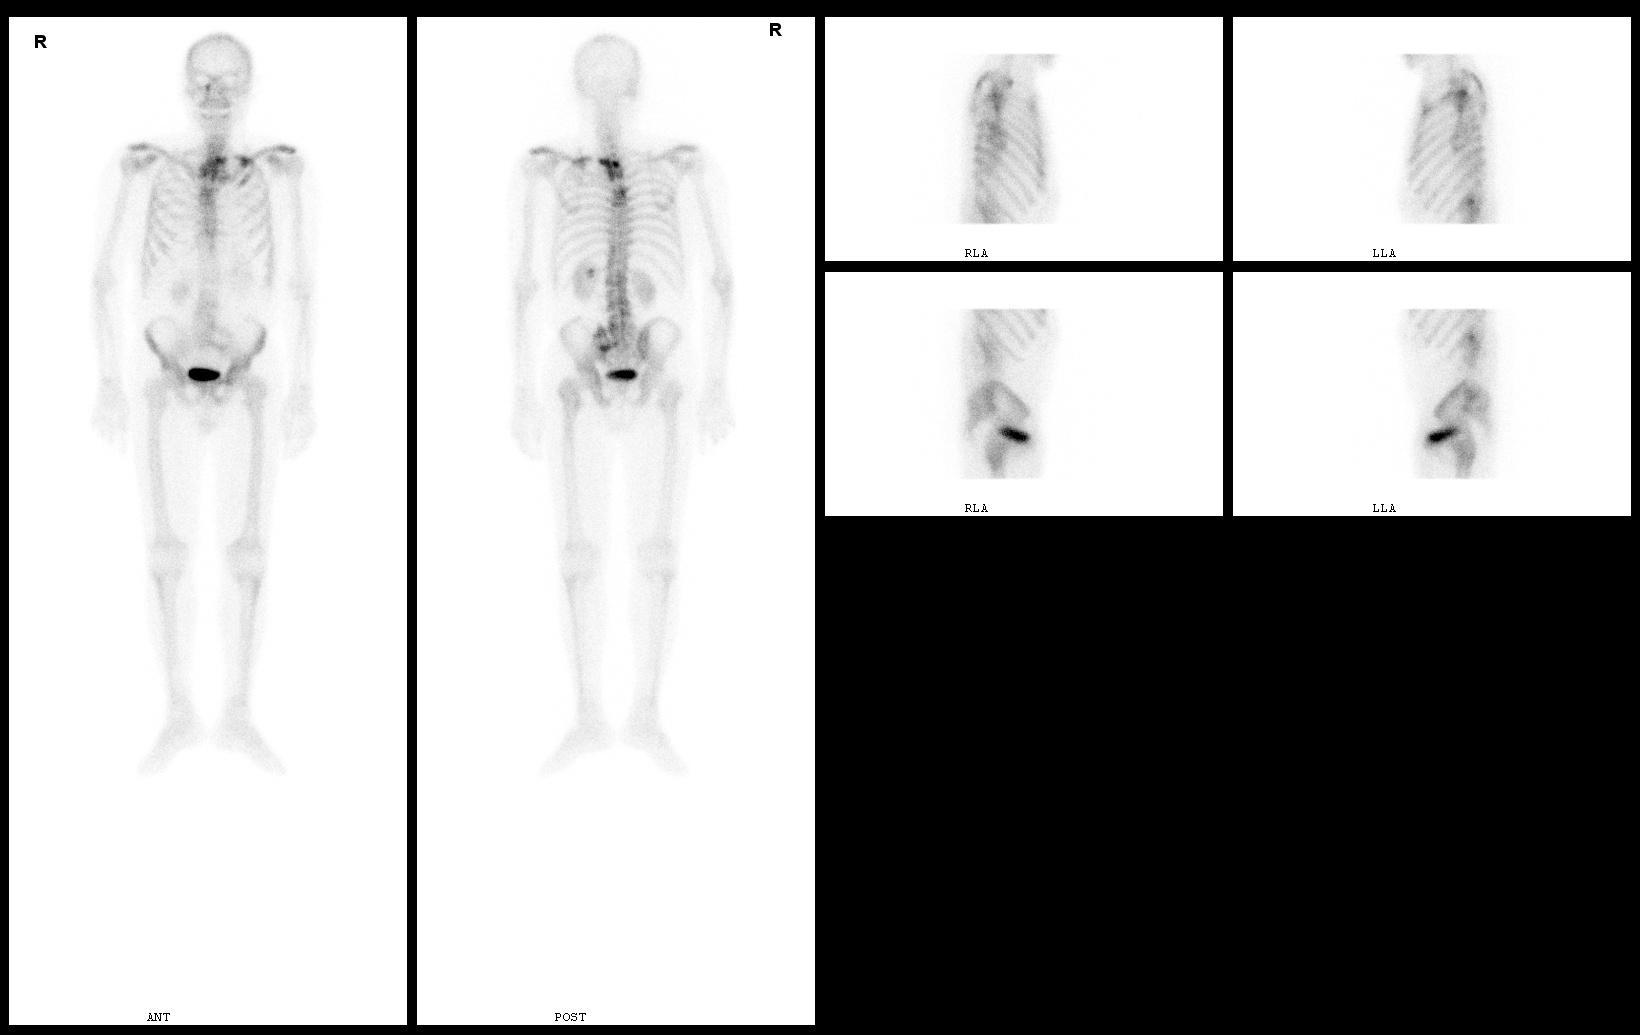person: (8, 17, 815, 1025)
